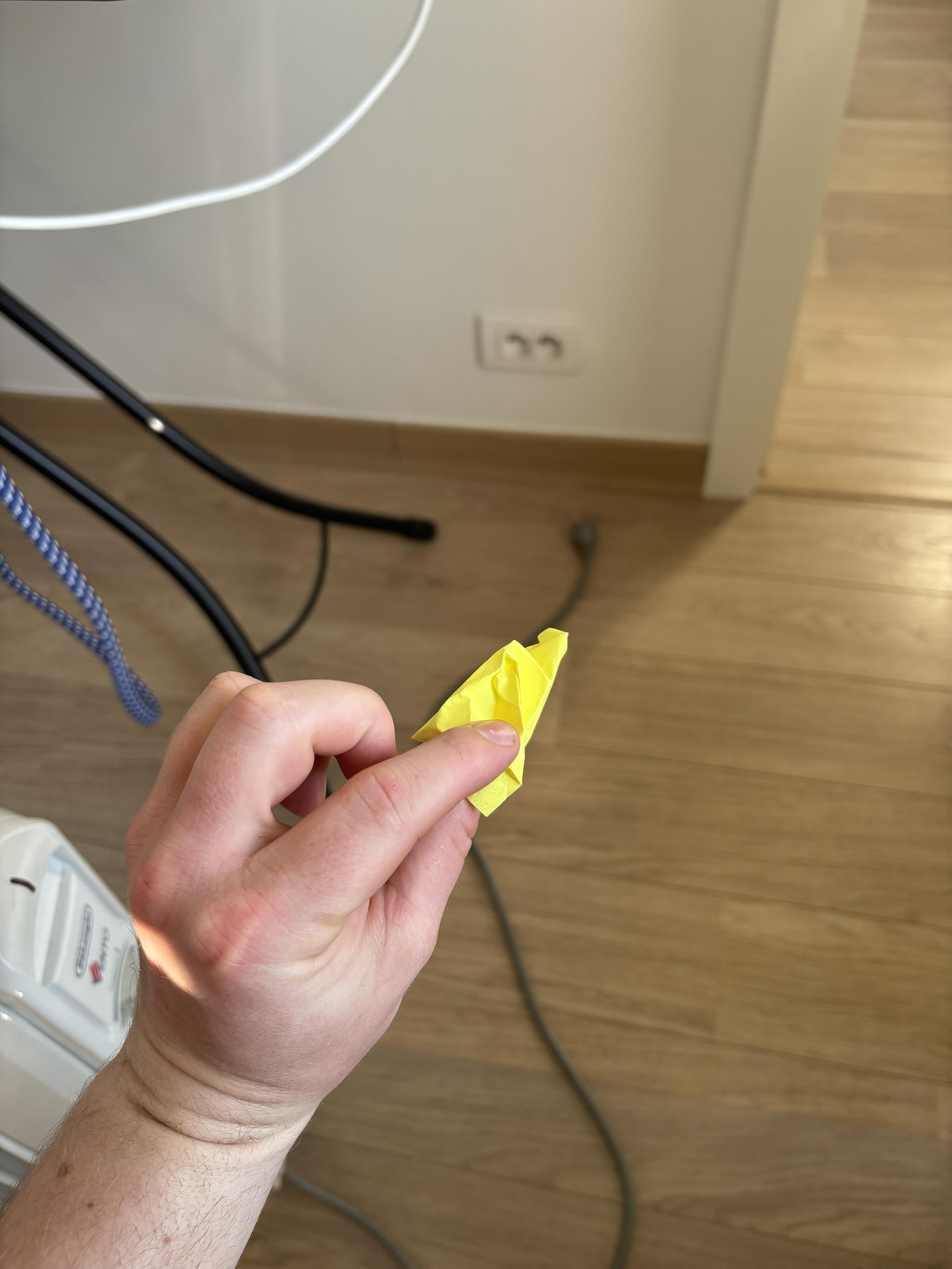Paper: (413, 613, 577, 817)
